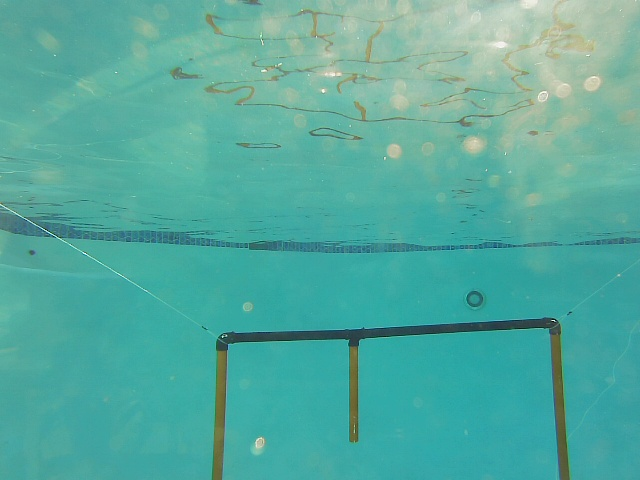Gate: (546, 328, 576, 480), (208, 344, 231, 480), (345, 338, 363, 450)
